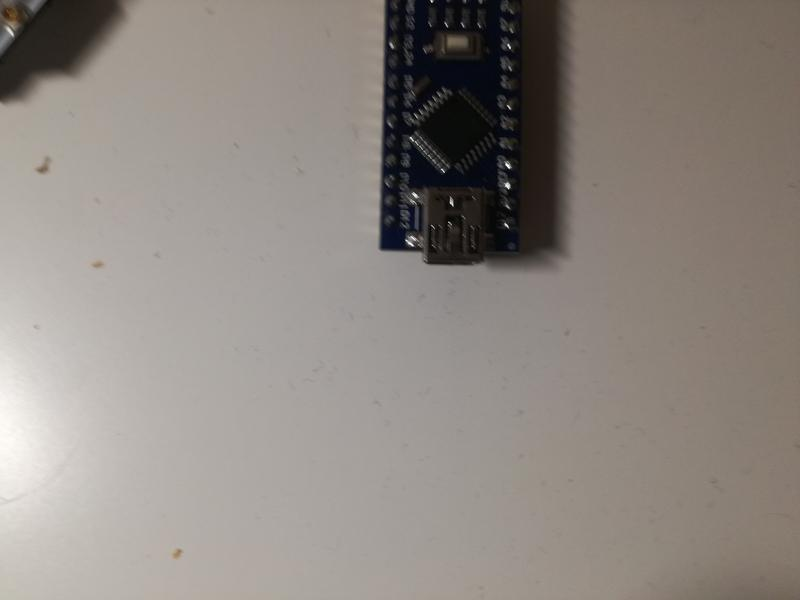Arduino_Nano: (374, 1, 529, 263)
